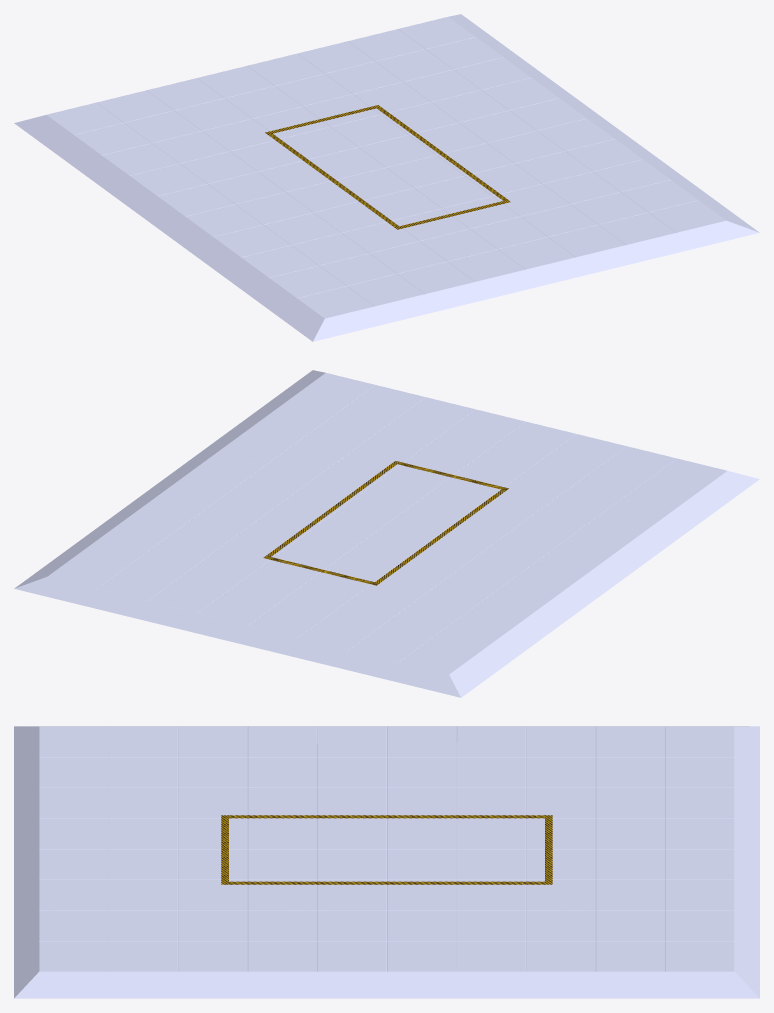
The model's file is parking_lot.glb.
3 renders of one model, top to bottom at view 1: azimuth 30°, elevation 25°; view 2: azimuth 150°, elevation 25°; view 3: azimuth 270°, elevation 25°, orthographic. The views are drawn at different scales.
Parts seen in each view (by area): view 1: Cube.001, Cube.004; view 2: Cube.001, Cube.004; view 3: Cube.001, Cube.004.
Boxes of the visible parts, bbox=[...] form: Cube.001: bbox=[14, 14, 759, 341]; Cube.004: bbox=[265, 105, 510, 229]; Cube.001: bbox=[14, 370, 759, 697]; Cube.004: bbox=[263, 461, 508, 585]; Cube.001: bbox=[14, 726, 759, 998]; Cube.004: bbox=[221, 815, 552, 884].
Size of the model in its own units: 10.85 by 0.2424 by 12.56.
3 materials, 1 textured.
